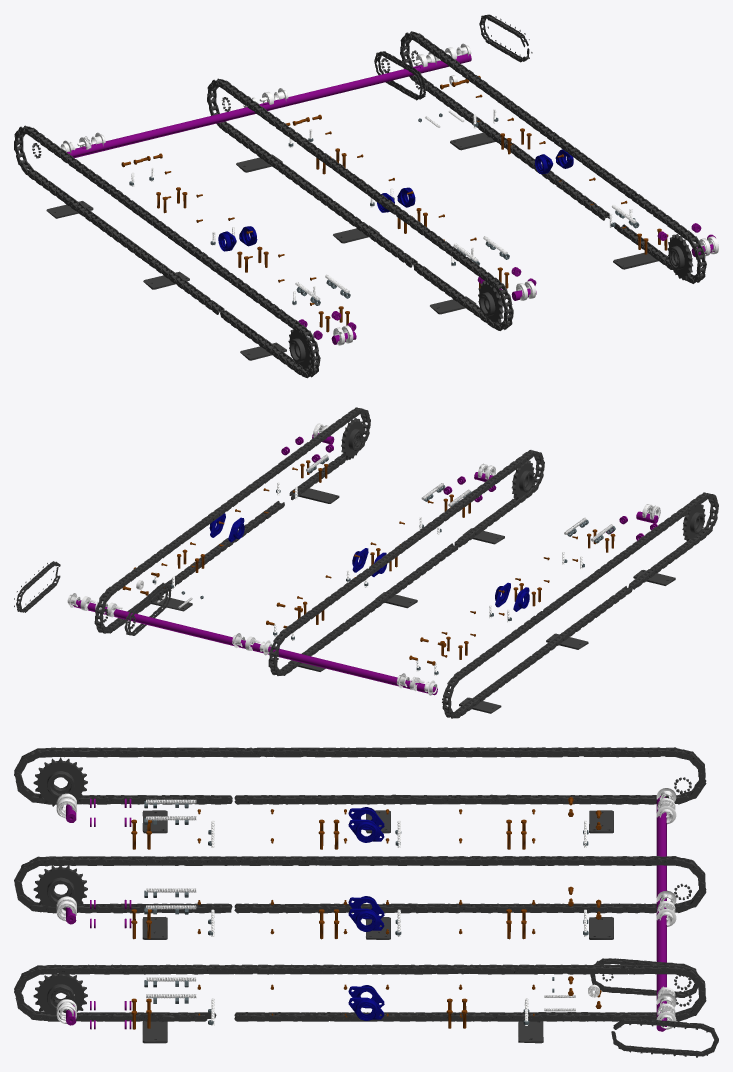
Rendered from hero-mobile.glb.
3 renders of one model, top to bottom at view 1: azimuth 30°, elevation 25°; view 2: azimuth 150°, elevation 25°; view 3: azimuth 270°, elevation 25°, orthographic. The views are drawn at different scales.
Visible parts, largest first — view 1: matte steel, matte steel-5, color-11, color-35, color-22, matte steel-10, color-9; view 2: matte steel, matte steel-5, color-11, color-35, color-22, matte steel-10, color-9; view 3: matte steel, color-11, color-22, matte steel-5, color-35, matte steel-10, color-9, matte steel-16.
Part boxes in pixels (x1,y1,x2,y2): matte steel: [14, 14, 706, 378]; matte steel-5: [67, 54, 715, 344]; color-11: [60, 43, 718, 345]; color-35: [121, 76, 668, 332]; color-22: [218, 149, 573, 251]; matte steel-10: [131, 109, 666, 305]; color-9: [129, 113, 639, 305]; matte steel: [14, 407, 718, 718]; matte steel-5: [71, 433, 658, 695]; color-11: [67, 423, 660, 695]; color-35: [122, 460, 615, 665]; color-22: [209, 513, 529, 611]; matte steel-10: [154, 450, 613, 675]; color-9: [152, 457, 615, 674]; matte steel: [14, 747, 718, 1057]; color-11: [56, 788, 676, 1029]; color-22: [348, 807, 384, 1020]; matte steel-5: [66, 796, 666, 1031]; color-35: [131, 797, 601, 1029]; matte steel-10: [146, 799, 586, 1025]; color-9: [144, 801, 588, 1024]; matte steel-16: [197, 809, 535, 1018].
Bounding box in the file's own units: 111251 × 13253 × 121133.
